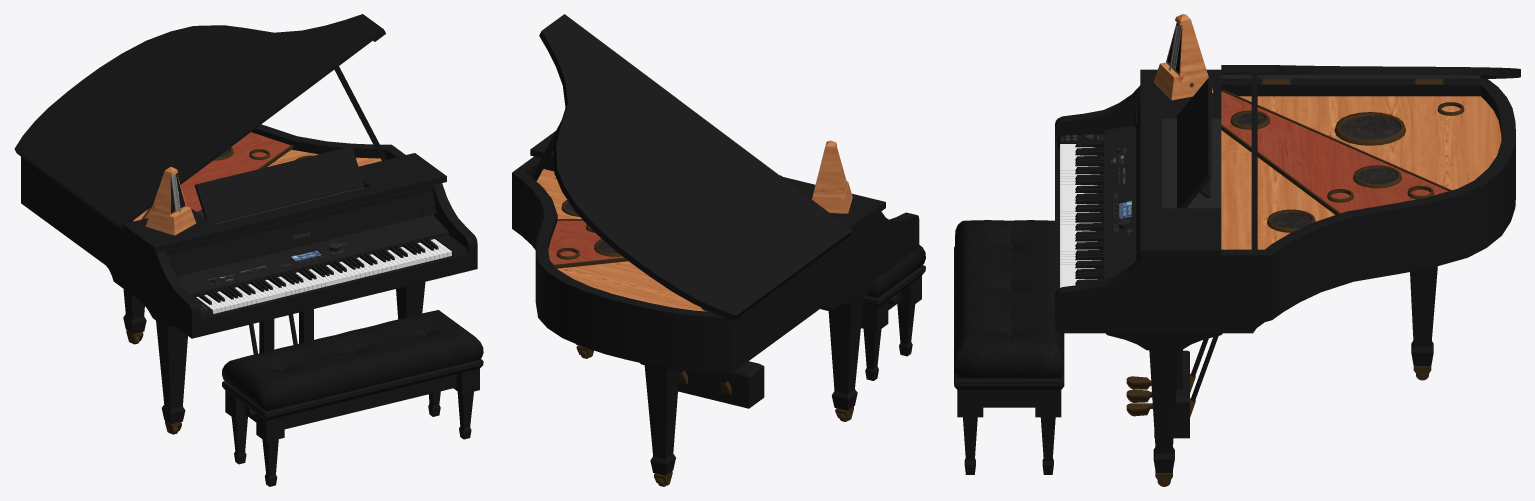
Rendered from piano.obj.
3 renders of one model, left to right at view 1: azimuth 30°, elevation 25°; view 2: azimuth 150°, elevation 25°; view 3: azimuth 270°, elevation 25°, orthographic. The views are drawn at different scales.
Parts seen in each view (by area): view 1: PIANOBOD PIANOWHOLE PATUNGAN, PATUNGAN CHAIRCUSHION CHAIRWHOLE, PATUNGAN CHAIRWHOLE CHAIRBOD, PATUNGAN METRONOMEBOD METRONOMEWHOLE; view 2: PIANOBOD PIANOWHOLE PATUNGAN, PATUNGAN CHAIRWHOLE CHAIRBOD, PATUNGAN METRONOMEBOD METRONOMEWHOLE, PATUNGAN CHAIRCUSHION CHAIRWHOLE; view 3: PIANOBOD PIANOWHOLE PATUNGAN, PATUNGAN CHAIRCUSHION CHAIRWHOLE, PATUNGAN CHAIRWHOLE CHAIRBOD, PATUNGAN METRONOMEBOD METRONOMEWHOLE.
Boxes of the visible parts, x1,y1,x2,y2 form: PIANOBOD PIANOWHOLE PATUNGAN: [14, 14, 477, 433]; PATUNGAN CHAIRCUSHION CHAIRWHOLE: [222, 310, 483, 411]; PATUNGAN CHAIRWHOLE CHAIRBOD: [222, 359, 483, 486]; PATUNGAN METRONOMEBOD METRONOMEWHOLE: [145, 167, 196, 235]; PIANOBOD PIANOWHOLE PATUNGAN: [512, 14, 919, 485]; PATUNGAN CHAIRWHOLE CHAIRBOD: [820, 265, 925, 380]; PATUNGAN METRONOMEBOD METRONOMEWHOLE: [812, 140, 852, 213]; PATUNGAN CHAIRCUSHION CHAIRWHOLE: [866, 245, 925, 298]; PIANOBOD PIANOWHOLE PATUNGAN: [1055, 65, 1520, 485]; PATUNGAN CHAIRCUSHION CHAIRWHOLE: [955, 220, 1063, 378]; PATUNGAN CHAIRWHOLE CHAIRBOD: [954, 246, 1064, 474]; PATUNGAN METRONOMEBOD METRONOMEWHOLE: [1153, 14, 1213, 100].
Bounding box in the file's own units: 21.62 × 23.25 × 28.49.
1 material, 1 textured.
